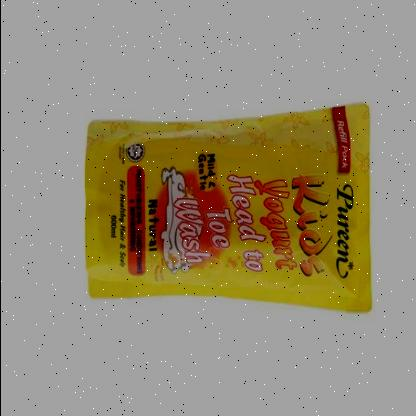Others: (80, 96, 369, 320)
